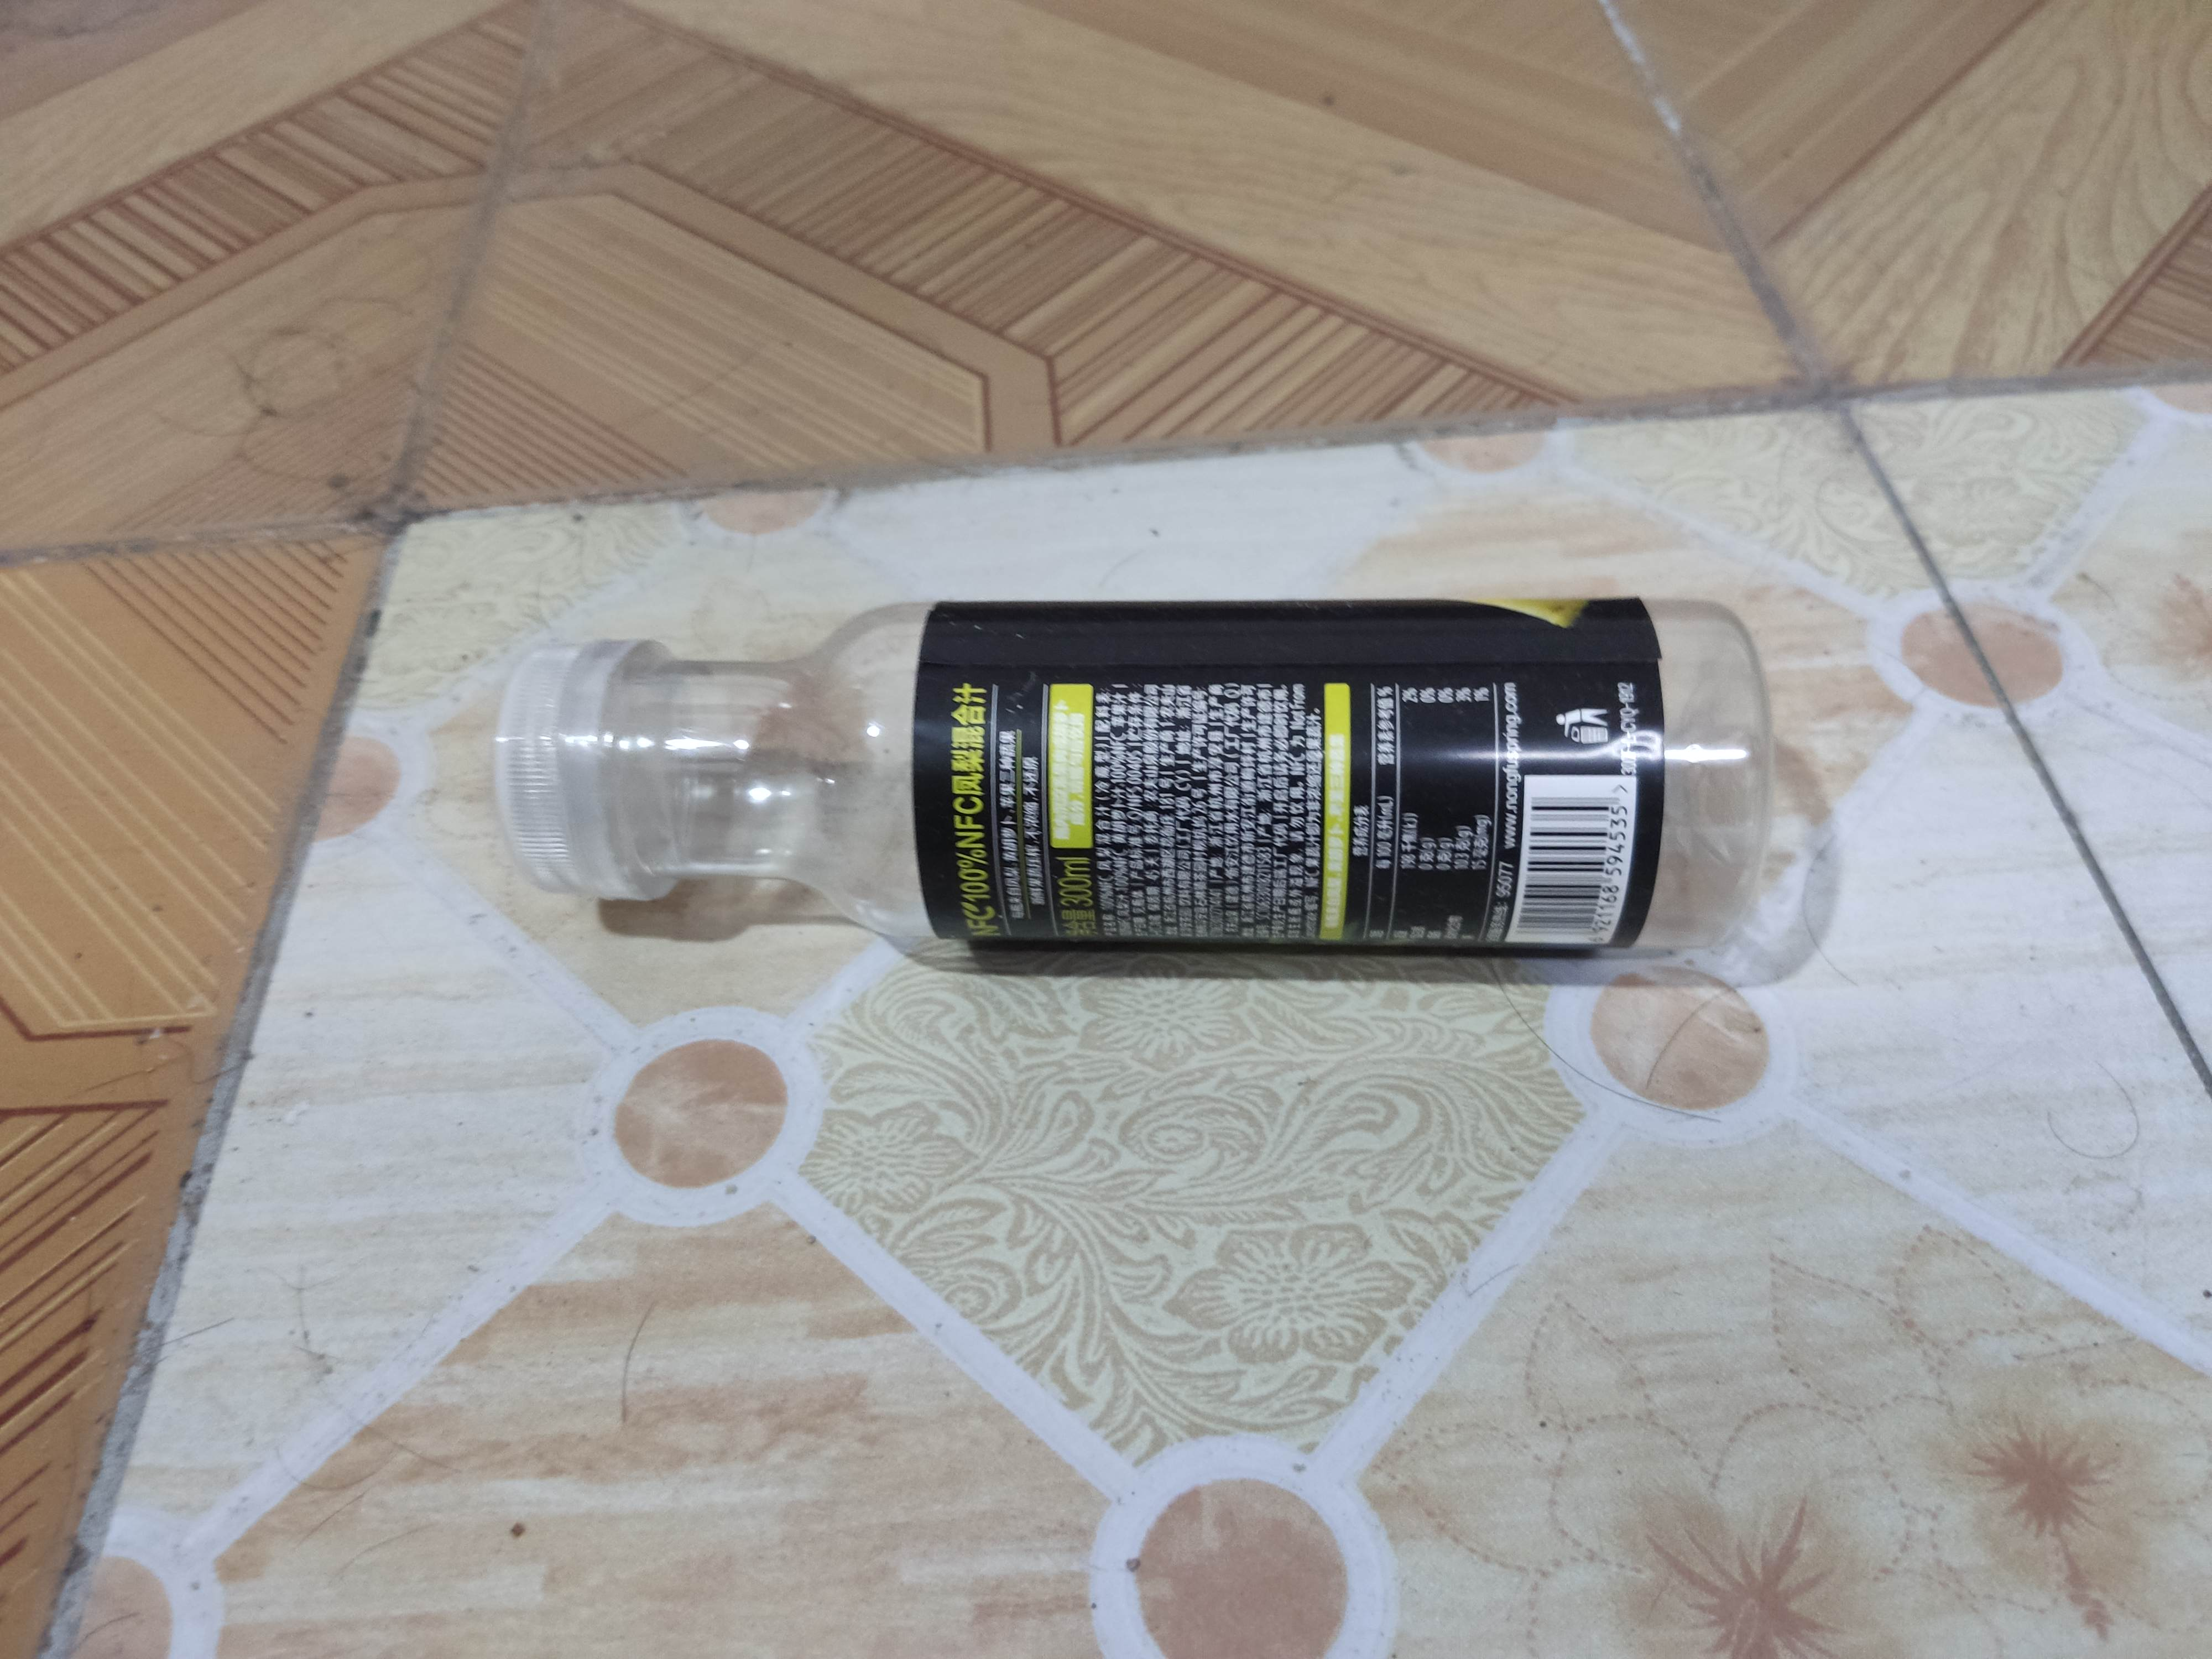Plastic Bottle: (482, 591, 1785, 971)
